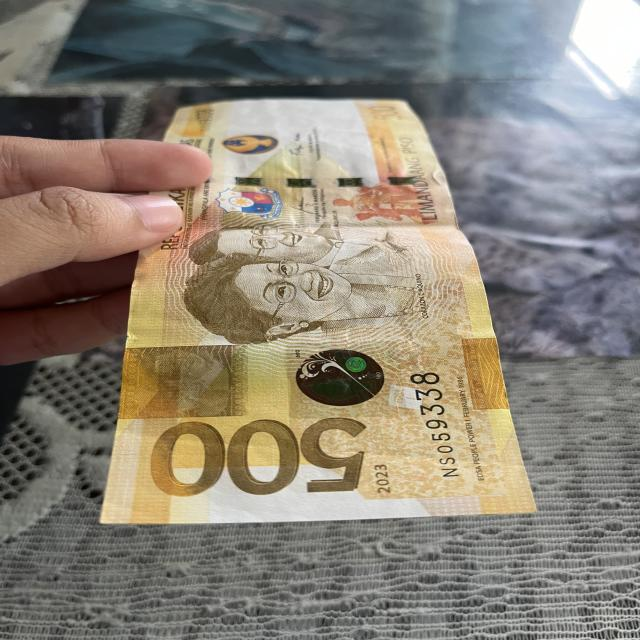concealed_value: (116, 348, 246, 417)
optically_variable_device: (286, 339, 410, 418)
serial_number: (402, 362, 474, 485)
